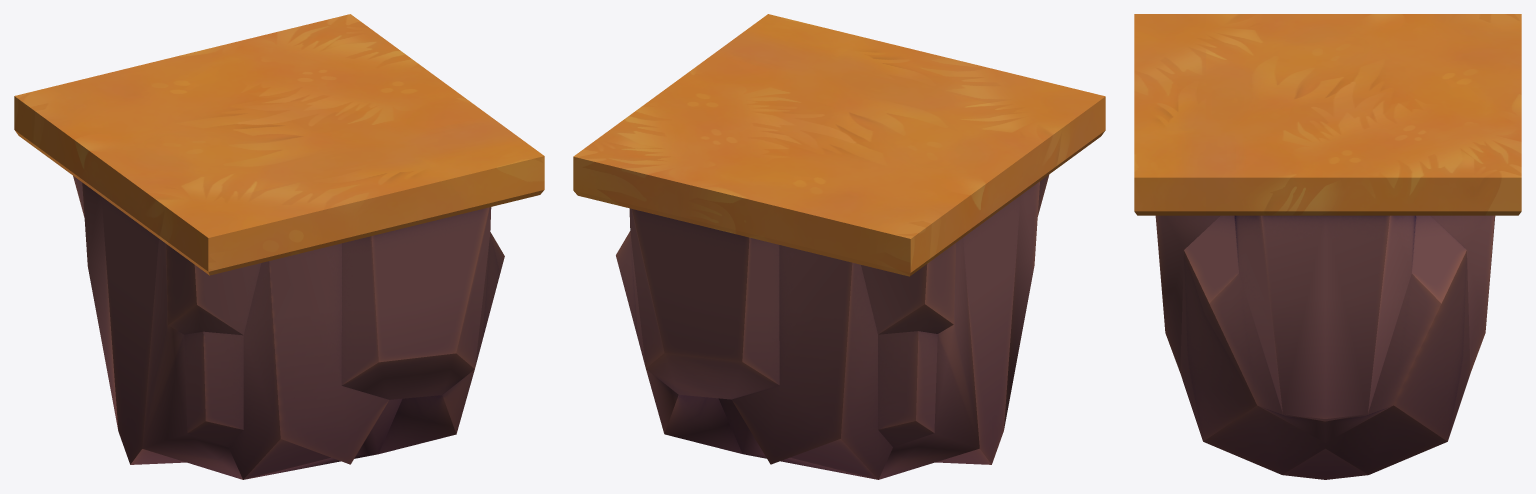
Rendered from Center.FBX.
3 renders of one model, left to right at view 1: azimuth 30°, elevation 25°; view 2: azimuth 150°, elevation 25°; view 3: azimuth 270°, elevation 25°, orthographic.
Parts seen in each view (by area): view 1: Center; view 2: Center; view 3: Center.
Boxes of the visible parts, <box> form: Center: <box>14,14,544,479</box>; Center: <box>573,14,1105,479</box>; Center: <box>1134,14,1521,479</box>.
Size of the model in its own units: 10.82 by 10.63 by 9.94.
